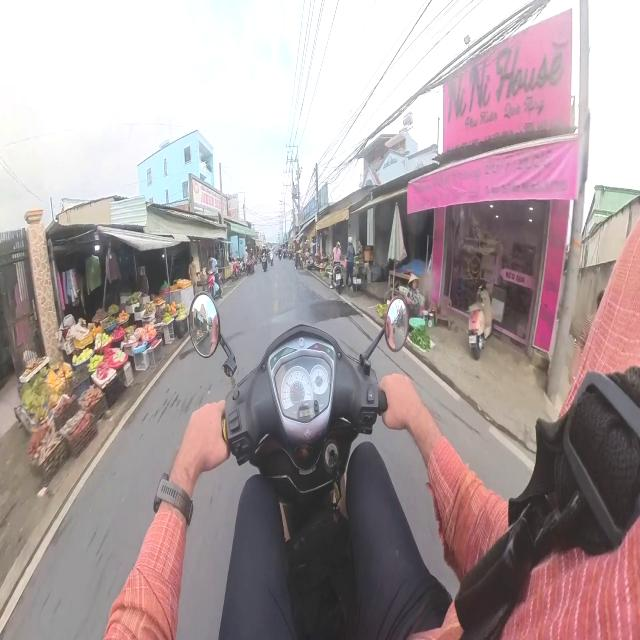motorcycle: (190, 294, 408, 637), (469, 285, 492, 359), (333, 263, 342, 293), (231, 258, 242, 281), (262, 254, 267, 271), (270, 252, 273, 266)
